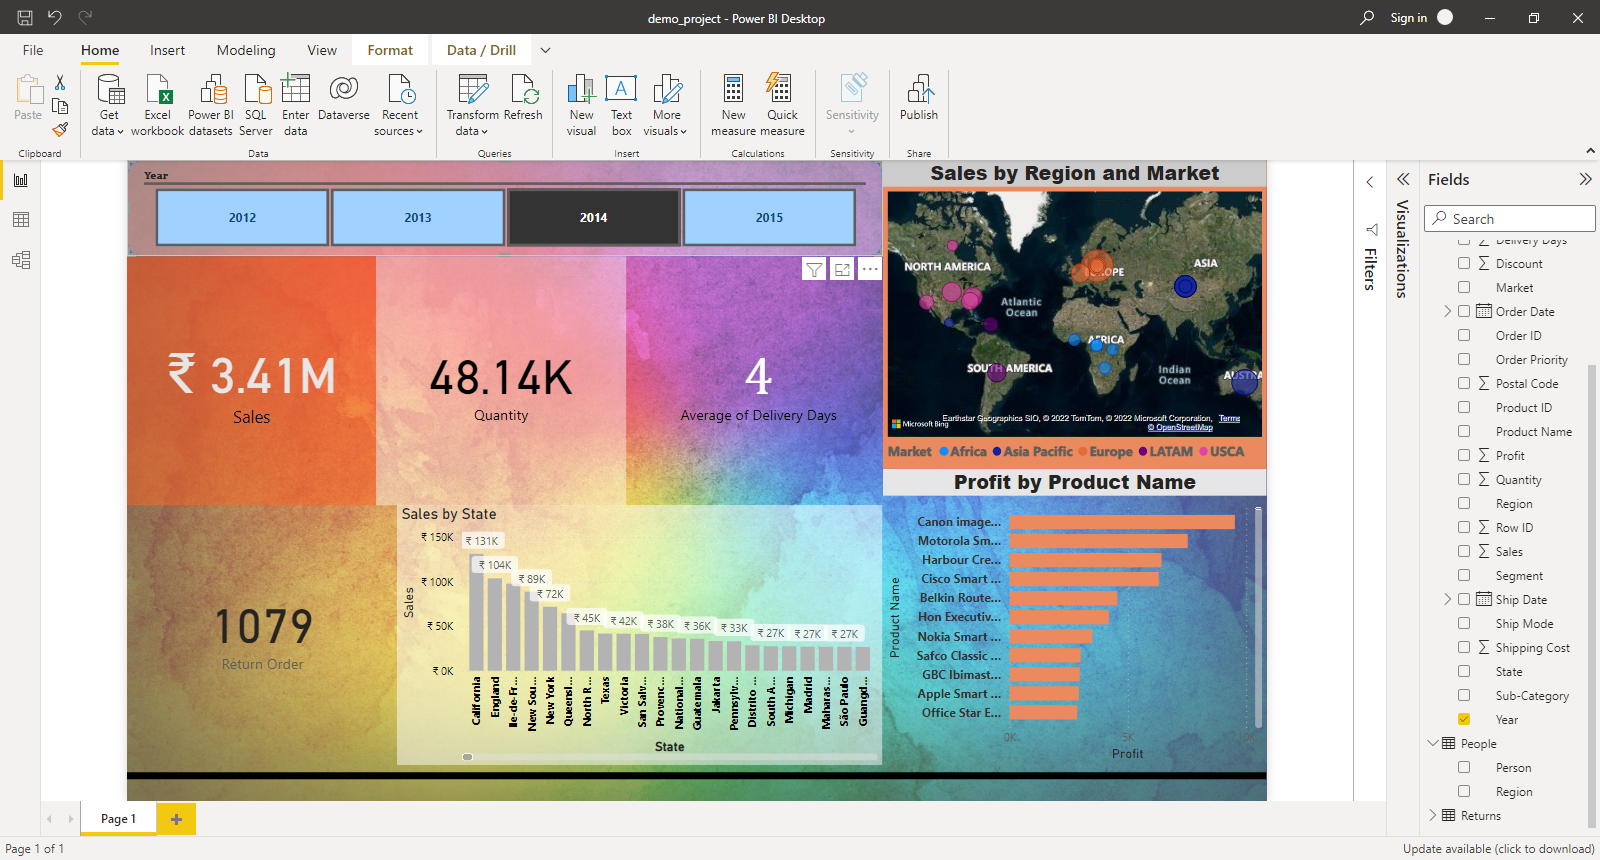

The dashboard page shown, as its layout file describes it:
{"tool":"powerbi","page":{"name":"Page 1","canvas":[1280,720],"ordinal":0},"visuals":[{"type":"card","fields":{"Values":["Avg(Orders.Delivery Days)"]},"box":[569.5,108,279.6,279.6],"z":0},{"type":"card","fields":{"Values":["Sum(Orders.Sales)"]},"box":[0,108,279.6,279.6],"z":1000},{"type":"card","fields":{"Values":["Sum(Orders.Quantity)"]},"box":[279.6,108,280.9,279.6],"z":2000},{"type":"shape","box":[0,680,1280,24.2],"z":3000},{"type":"slicer","fields":{"Values":["Orders.Year"]},"box":[0,0,849.1,108],"z":4000},{"type":"card","fields":{"Values":["Sum(Returns.Return Order)"]},"box":[0,387.7,303.8,279.6],"z":5000},{"type":"map","fields":{"Category":["Orders.Region"],"Size":["Sum(Orders.Sales)"],"Series":["Orders.Market"]},"box":[849.1,0,430.9,346.8],"z":6000},{"type":"barChart","fields":{"Category":["Orders.Product Name"],"Y":["Sum(Orders.Profit)"]},"box":[849.1,346.8,430.9,332.7],"z":7000},{"type":"lineClusteredColumnComboChart","fields":{"Category":["Orders.State"],"Y":["Sum(Orders.Sales)"]},"box":[303.8,387.7,545.3,292.4],"z":7001}]}

Visuals, with their boxes on the page's 1280x720 design canvas (x1, y1, x2, y2). These are canvas units, not pixel positions in the 1600x860 screenshot, which may show the page scaled, cropped or inside an application window:
card - Avg(Orders.Delivery Days): detection(570, 108, 849, 388)
card - Sum(Orders.Sales): detection(0, 108, 280, 388)
card - Sum(Orders.Quantity): detection(280, 108, 560, 388)
shape: detection(0, 680, 1280, 704)
slicer - Orders.Year: detection(0, 0, 849, 108)
card - Sum(Returns.Return Order): detection(0, 388, 304, 667)
map - Orders.Region x Sum(Orders.Sales): detection(849, 0, 1280, 347)
barChart - Orders.Product Name x Sum(Orders.Profit): detection(849, 347, 1280, 680)
lineClusteredColumnComboChart - Orders.State x Sum(Orders.Sales): detection(304, 388, 849, 680)
